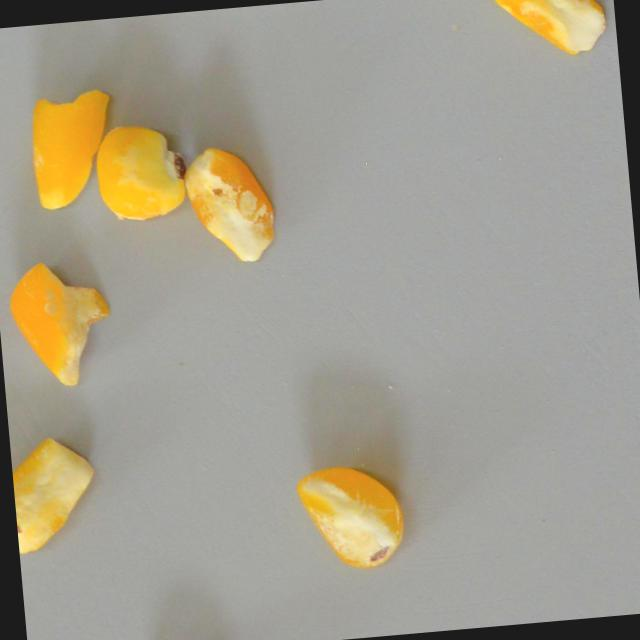dañado: (292, 458, 408, 574), (178, 140, 277, 266), (9, 432, 102, 553), (91, 119, 188, 224)
pelicula: (4, 254, 114, 391), (24, 83, 122, 213)
punto_negro: (490, 0, 608, 62)
